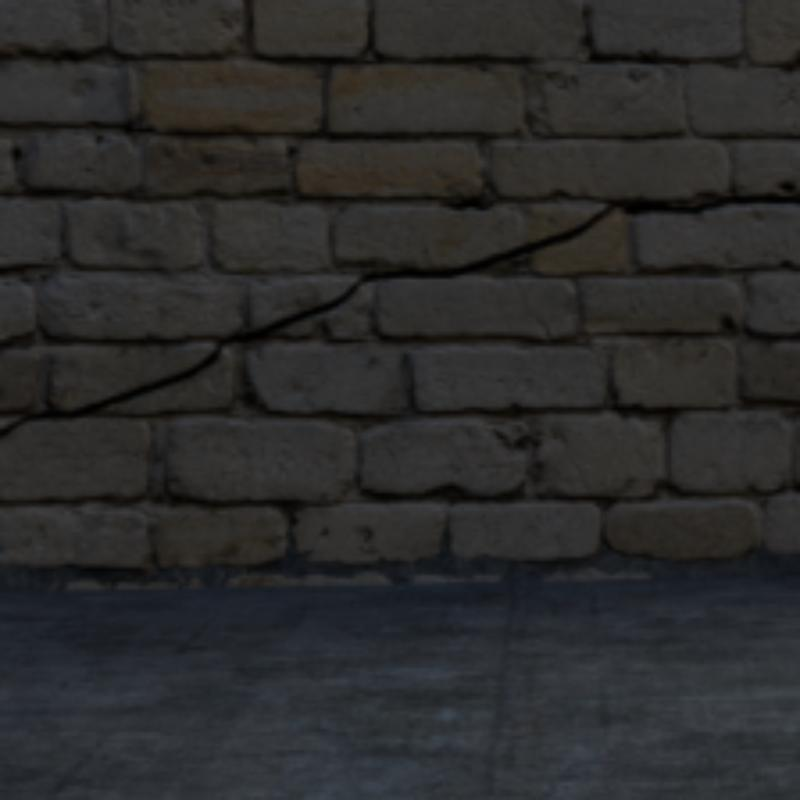pothole: (0, 193, 796, 436)
